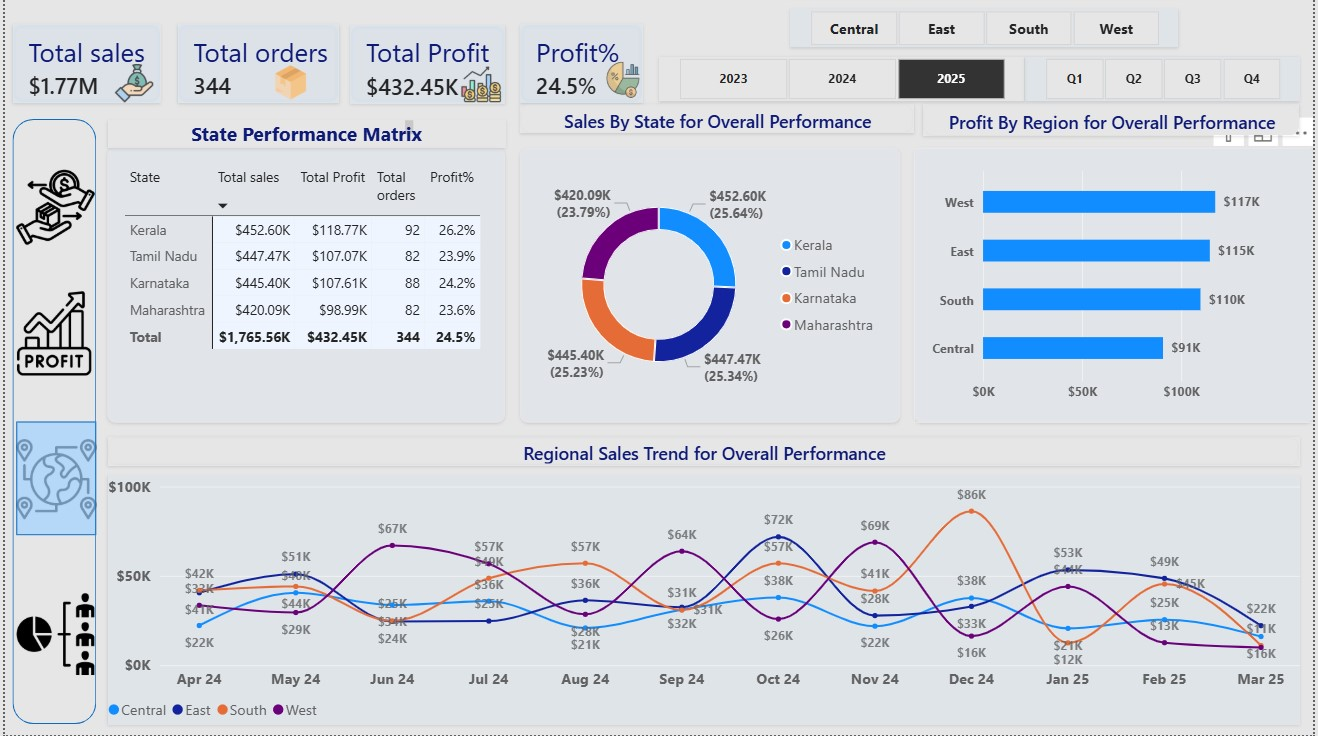

The page's visual inventory and layout, read from the dashboard file:
{"tool":"powerbi","page":{"name":"Regional Analysis","canvas":[1280,720],"ordinal":3},"visuals":[{"type":"cardVisual","fields":{"Data":["Key measure.Total sales"]},"box":[7.5,25,145,77.5],"z":0},{"type":"cardVisual","fields":{"Data":["Key measure.Total Profit"]},"box":[337.6,26.1,152.3,76.8],"z":1000},{"type":"cardVisual","fields":{"Data":["Key measure.Total orders"]},"box":[168.8,25,158.8,77.5],"z":2000},{"type":"cardVisual","fields":{"Data":["Key measure.Profit%"]},"box":[503.8,25,120,77.5],"z":4000},{"type":"image","box":[247.5,63.8,65,36.2],"z":5000},{"type":"image","box":[585.7,55.7,37.6,45.9],"z":6000},{"type":"image","box":[100,63.8,52.5,37.5],"z":7000},{"type":"image","box":[443.2,63.1,46.7,39.8],"z":8000},{"type":"lineChart","fields":{"Y":["Key measure.Total sales"],"Category":["dim_date.Month Year"],"Series":["fact_sales.Region"]},"box":[100,466.2,1166.2,243.8],"z":9000},{"type":"donutChart","fields":{"Category":["fact_sales.State"],"Y":["Key measure.Total sales"]},"box":[503.6,145.5,371.9,269],"z":10000},{"type":"clusteredBarChart","fields":{"Y":["Key measure.Total Profit"],"Category":["fact_sales.Region"]},"box":[889.2,145.5,391.1,269],"z":11000},{"type":"slicer","fields":{"Values":["dim_date.FY"]},"box":[640,56.2,357.5,43.8],"z":12000},{"type":"slicer","fields":{"Values":["dim_date.Quarters"]},"box":[997.5,56.2,268.8,43.8],"z":13000},{"type":"slicer","fields":{"Values":["fact_sales.Region"]},"box":[767.5,10,380,37.5],"z":14000},{"type":"pivotTable","fields":{"Rows":["fact_sales.State"],"Values":["Key measure.Total sales","Key measure.Total Profit","Key measure.Total orders","Key measure.Profit%"]},"box":[100,145,388.8,268.8],"z":15000},{"type":"cardVisual","fields":{"Data":["Key measure.Dynamic State Title"]},"box":[503.6,102.9,385.6,28.8],"z":16000},{"type":"cardVisual","fields":{"Data":["Key measure.Dynamic Profitregion Title"]},"box":[897.4,102.9,369.1,31.6],"z":17000},{"type":"cardVisual","fields":{"Data":["Key measure.Dynamic Regional Trend Title"]},"box":[100.2,428.1,1166.4,28.8],"z":18000},{"type":"textbox","box":[100.2,118,299.1,13.7],"z":19000},{"type":"textbox","box":[100,100,300,300],"z":20000},{"type":"textbox","box":[100.2,118,389.7,27.4],"z":21000},{"type":"shape","box":[7.3,117.4,81.9,591.9],"z":22000},{"type":"image","box":[9.8,157.7,79.5,91.7],"z":23000},{"type":"image","box":[7.3,273.9,81.9,106.4],"z":24000},{"type":"image","box":[11,414.5,78.3,110.1],"z":25000},{"type":"image","box":[9.8,563.7,79.5,114.9],"z":26000},{"type":"shape","box":[11,413.3,78.3,111.3],"z":27000}]}

Visuals, with their boxes in screenshot pixels (x1, y1, x2, y2), scaled from the page's 1280x720 canvas onto the 1318x736 screenshot:
cardVisual - Key measure.Total sales: detection(8, 26, 157, 105)
cardVisual - Key measure.Total Profit: detection(348, 27, 504, 105)
cardVisual - Key measure.Total orders: detection(174, 26, 337, 105)
cardVisual - Key measure.Profit%: detection(519, 26, 642, 105)
image: detection(255, 65, 322, 102)
image: detection(603, 57, 642, 104)
image: detection(103, 65, 157, 104)
image: detection(456, 65, 504, 105)
lineChart - Key measure.Total sales x dim_date.Month Year: detection(103, 477, 1304, 726)
donutChart - fact_sales.State x Key measure.Total sales: detection(519, 149, 901, 424)
clusteredBarChart - Key measure.Total Profit x fact_sales.Region: detection(916, 149, 1317, 424)
slicer - dim_date.FY: detection(659, 57, 1027, 102)
slicer - dim_date.Quarters: detection(1027, 57, 1304, 102)
slicer - fact_sales.Region: detection(790, 10, 1182, 49)
pivotTable - fact_sales.State x Key measure.Total sales: detection(103, 148, 503, 423)
cardVisual - Key measure.Dynamic State Title: detection(519, 105, 916, 135)
cardVisual - Key measure.Dynamic Profitregion Title: detection(924, 105, 1304, 137)
cardVisual - Key measure.Dynamic Regional Trend Title: detection(103, 438, 1304, 467)
textbox: detection(103, 121, 411, 135)
textbox: detection(103, 102, 412, 409)
textbox: detection(103, 121, 504, 149)
shape: detection(8, 120, 92, 725)
image: detection(10, 161, 92, 255)
image: detection(8, 280, 92, 389)
image: detection(11, 424, 92, 536)
image: detection(10, 576, 92, 694)
shape: detection(11, 422, 92, 536)
